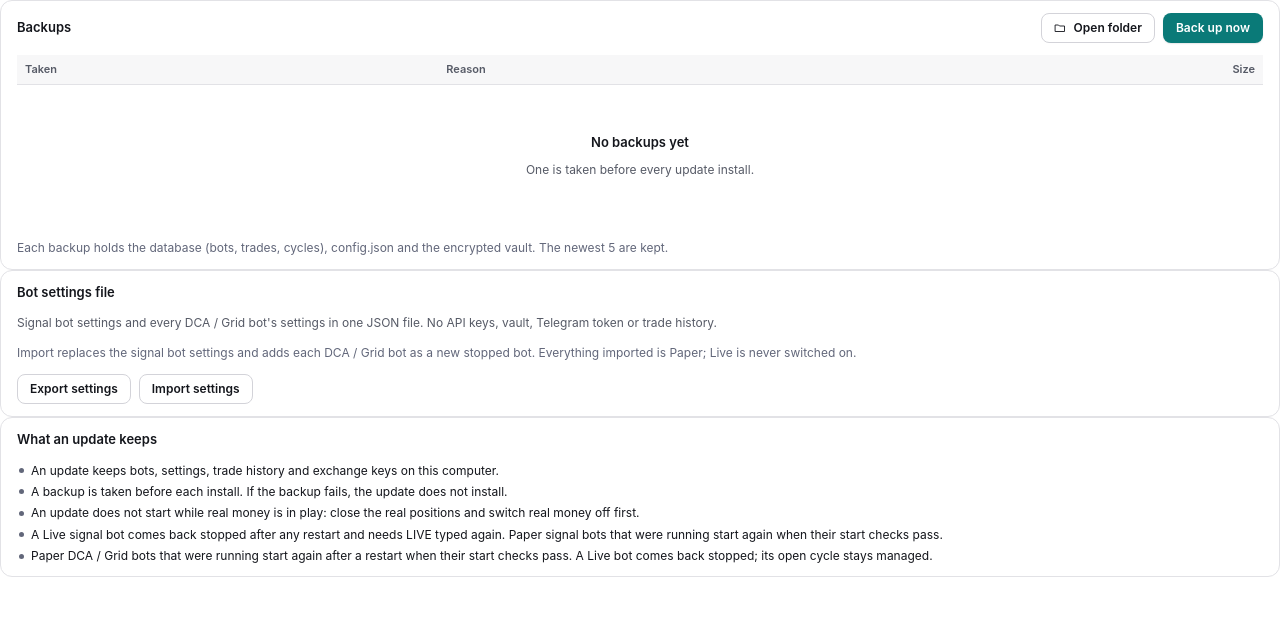
Scenario: BackupTab › exports through a download link
Click the button "Export settings" at [74, 389], box [17, 374, 131, 404]
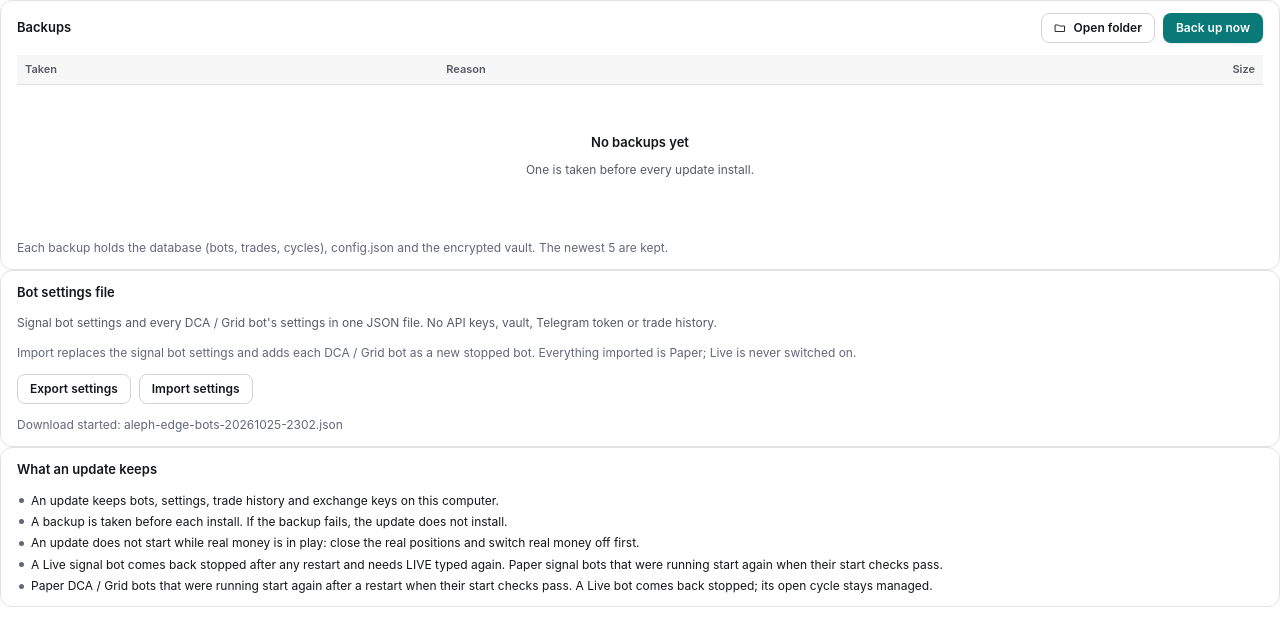
expect the text "Download started: aleph-edge-bots-20261025-2302.json" is shown: met, box [17, 417, 343, 432]
